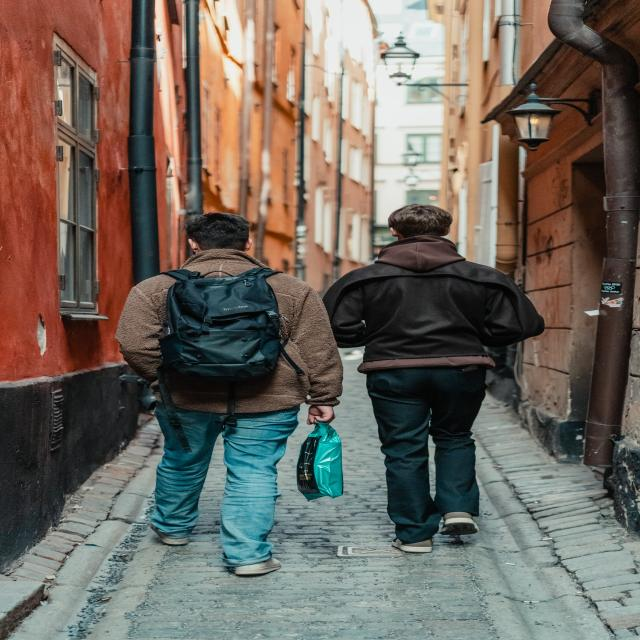backpack: (138, 266, 288, 391)
